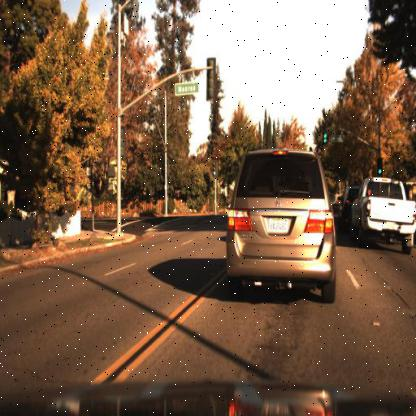car: (226, 147, 338, 306), (349, 176, 415, 255)
trafficLight: (322, 124, 330, 148)
trafficLight-Green: (376, 154, 385, 176)
trafficLight-GreenLeft: (212, 156, 219, 180)
